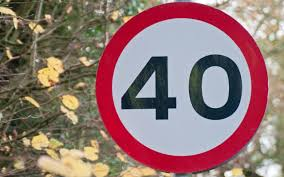Speed_limit_40km: (93, 4, 268, 171)
